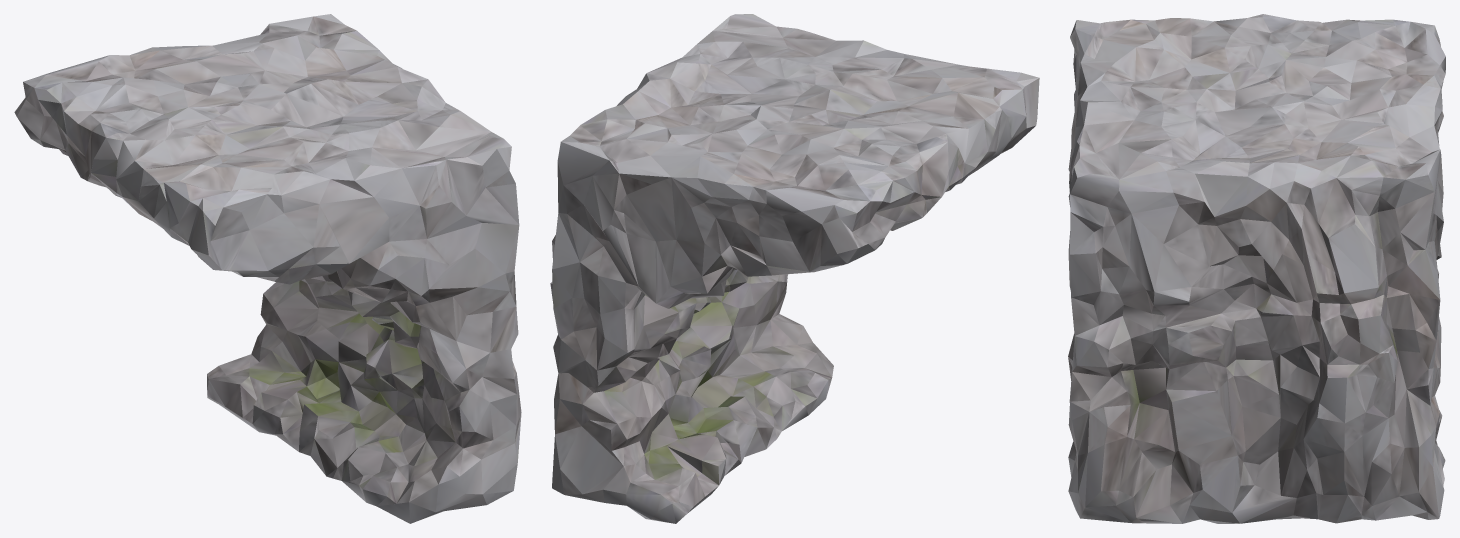
The model's file is SM_cv_rock_b.glb.
3 views of the same model, side by side, from view 1: azimuth 30°, elevation 25°; view 2: azimuth 150°, elevation 25°; view 3: azimuth 270°, elevation 25° (orthographic). The views are drawn at different scales.
Size of the model in its own units: 17.85 by 18 by 16.51.
1 material, 1 textured.
